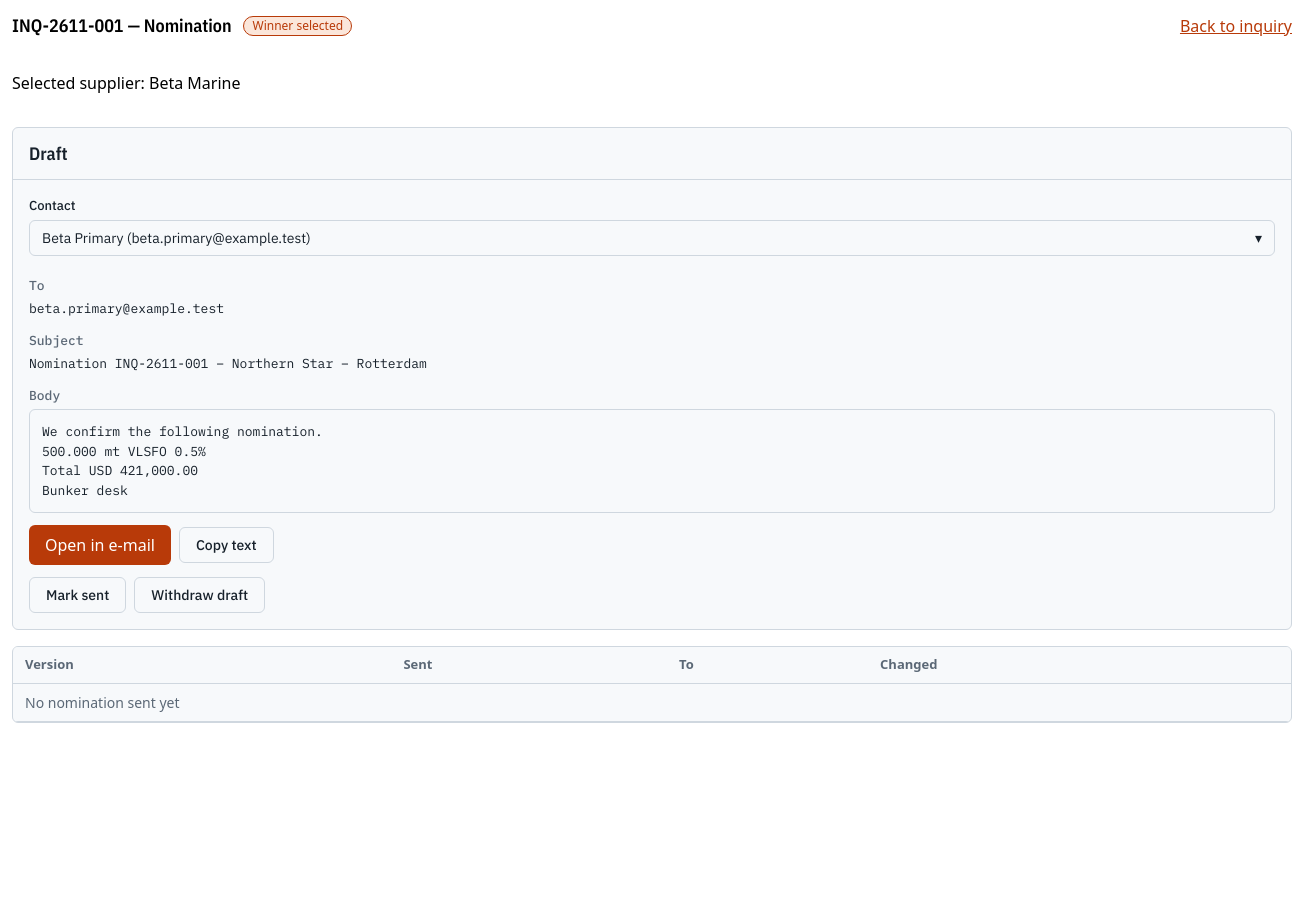
Scenario: Nomination changes › [B5-R11] Withdraw draft needs a confirm and then offers a new draft
Click the button "Withdraw draft" at (200, 595), box [134, 577, 265, 613]
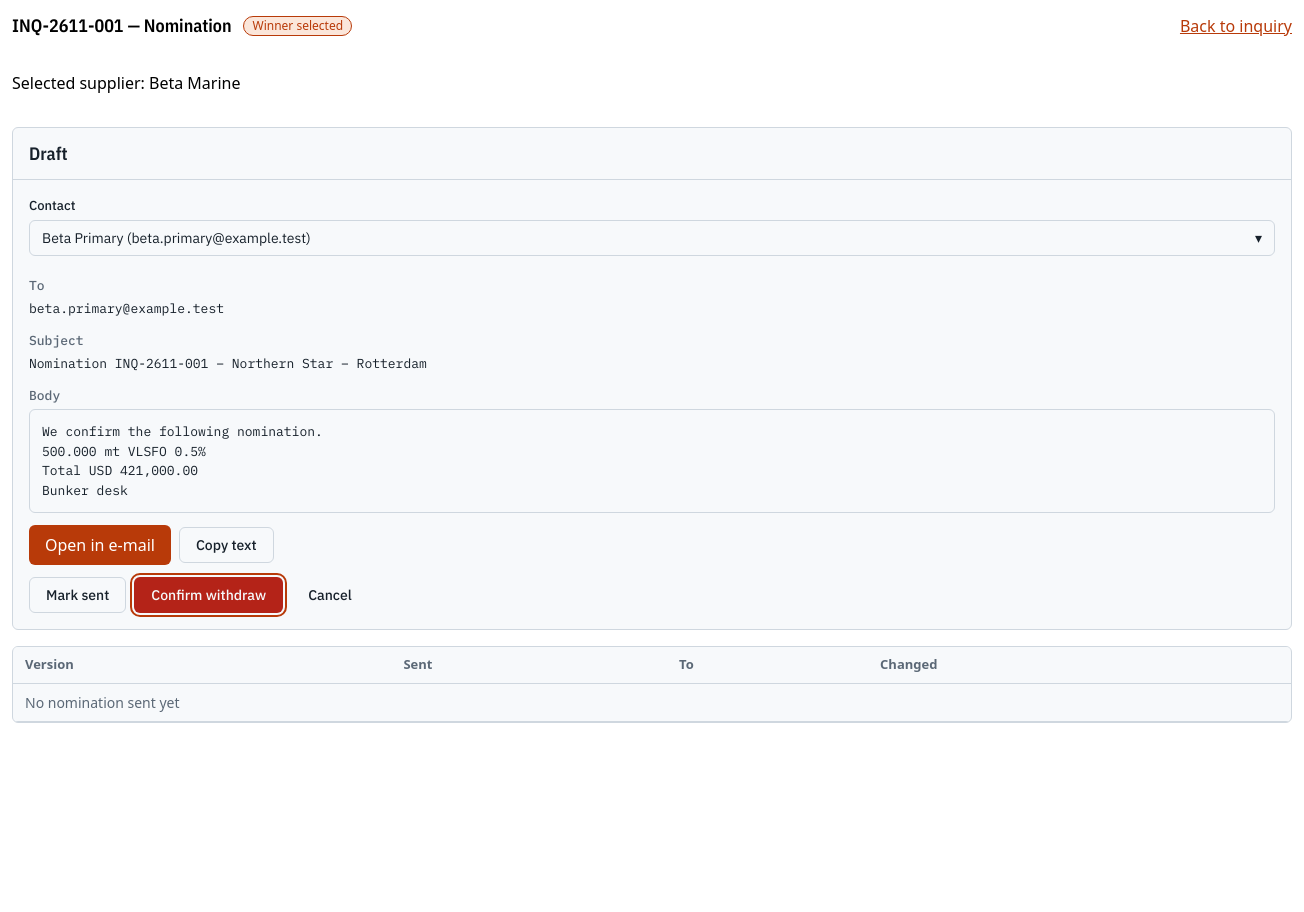
Click the button "Confirm withdraw" at (209, 595), box [134, 577, 283, 613]
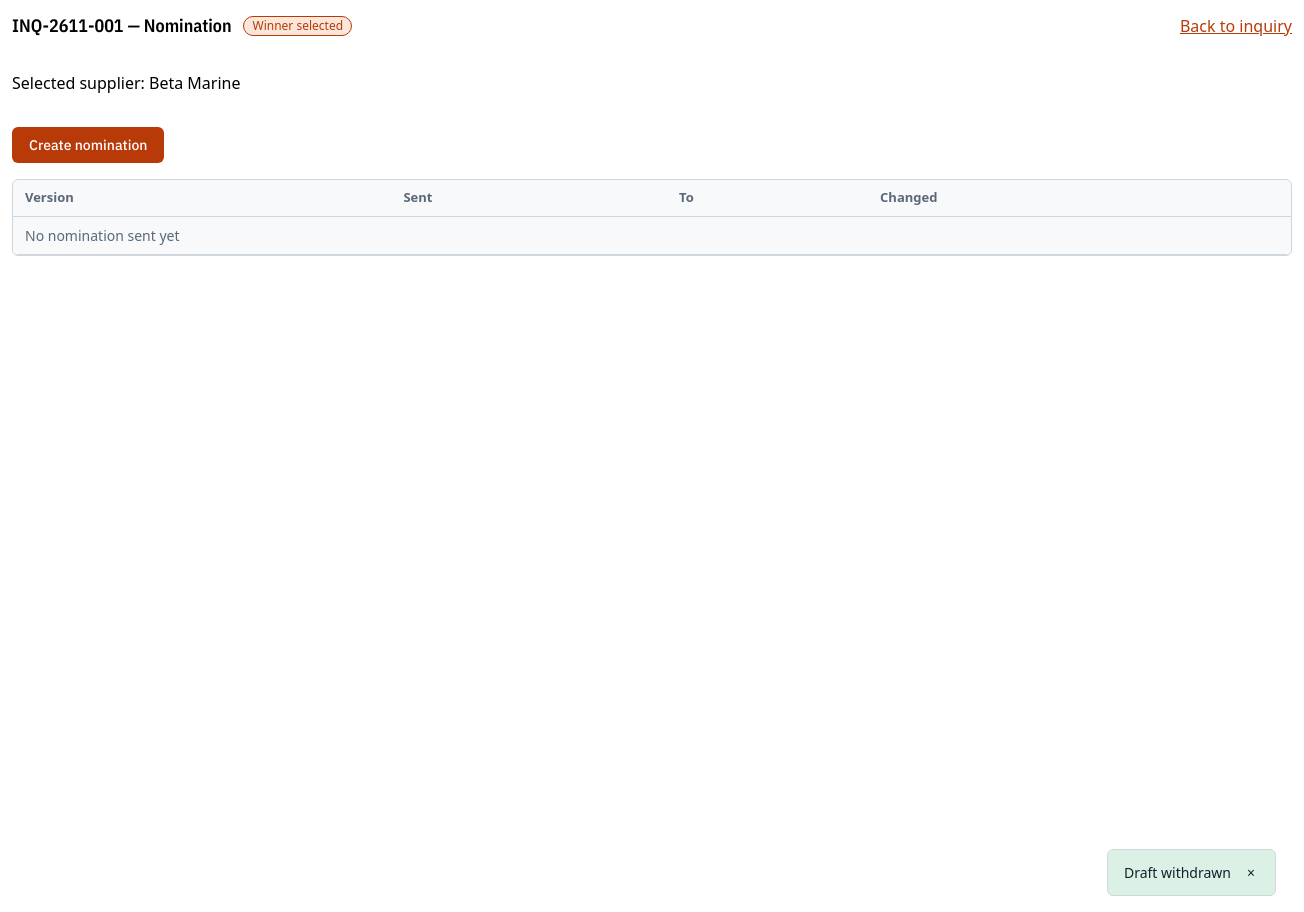
Check: the button "Create nomination" is shown, box [12, 127, 164, 163]
